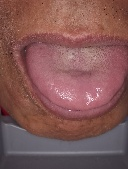tongue: (26, 50, 126, 112)
